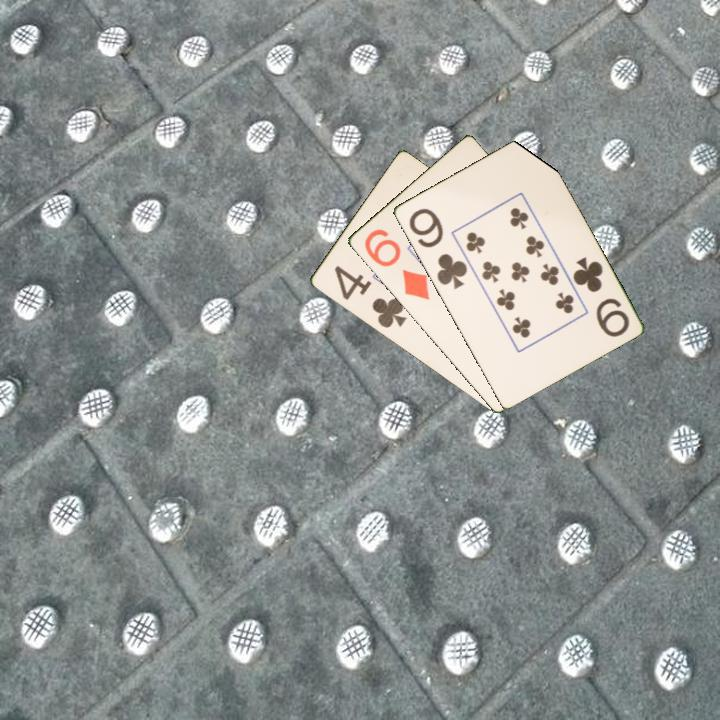4c: (330, 262, 409, 331)
6d: (360, 225, 432, 303)
9c: (405, 204, 470, 292), (569, 253, 632, 340)
